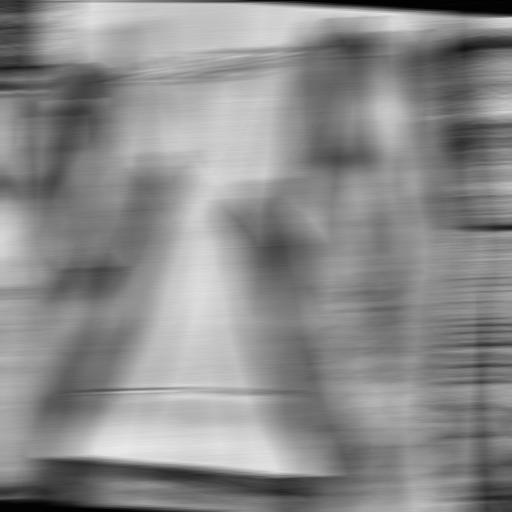bottom_right: (21, 443, 48, 458)
envelop: (66, 22, 369, 407)
top_right: (43, 0, 69, 4)
